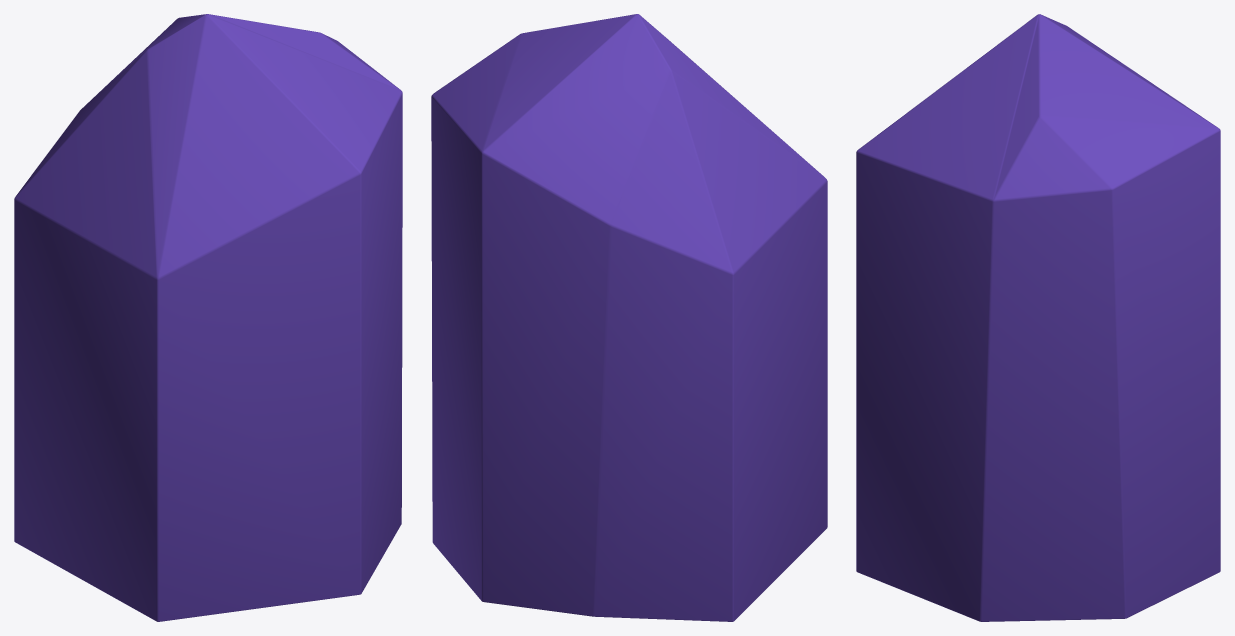
Rendered from Crystal_2.fbx.
3 views of the same model, side by side, from view 1: azimuth 30°, elevation 25°; view 2: azimuth 150°, elevation 25°; view 3: azimuth 270°, elevation 25° (orthographic).
Visible parts, largest first — view 1: Crystal_004; view 2: Crystal_004; view 3: Crystal_004.
Part boxes in pixels (x1,y1,x2,y2): Crystal_004: (14, 14, 402, 621); Crystal_004: (431, 14, 827, 621); Crystal_004: (856, 14, 1220, 621).
Bounding box in the file's own units: 4.76 × 7.6 × 4.75.
